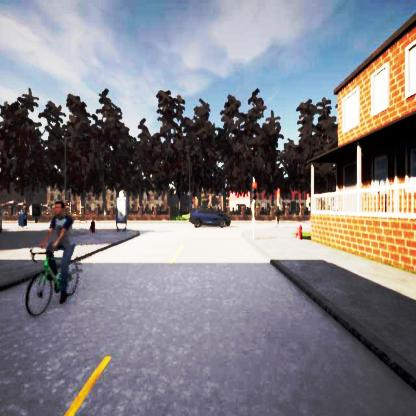bike: (25, 197, 80, 316)
vehicle: (188, 209, 231, 227)
